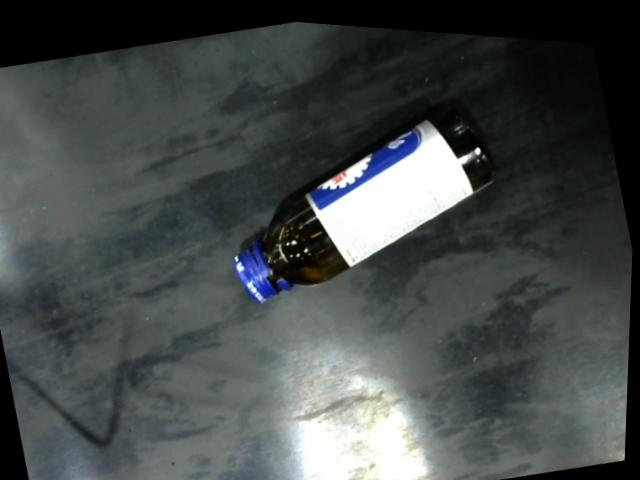glass: (233, 89, 502, 303)
